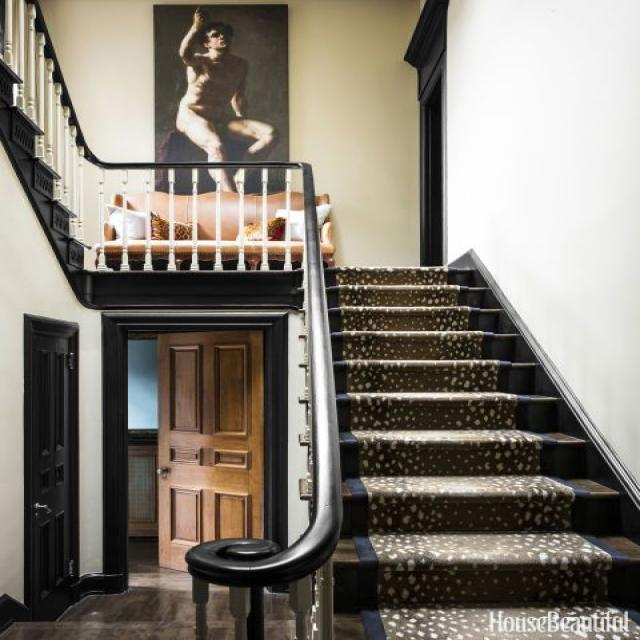stairs: (324, 261, 639, 638)
